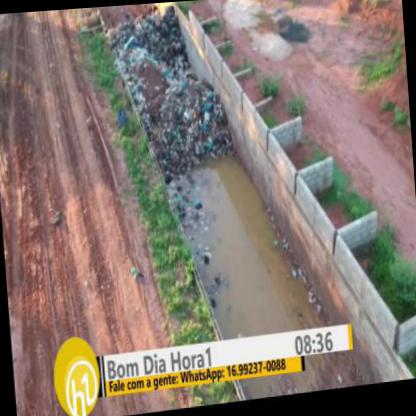agua: (204, 191, 273, 338)
lixo: (129, 20, 204, 154)
